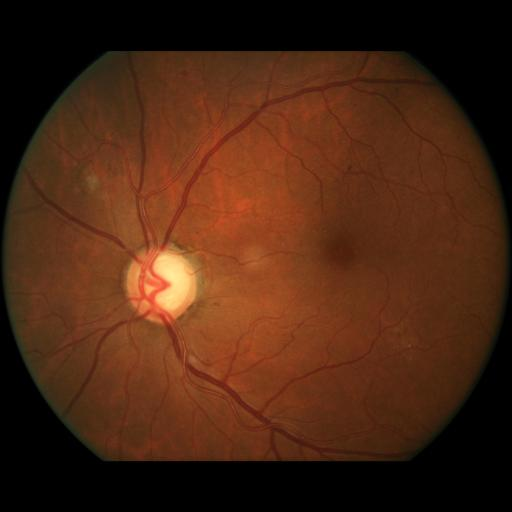Optic Cup: (141, 256, 187, 310)
Optic Disc: (126, 245, 197, 325)
